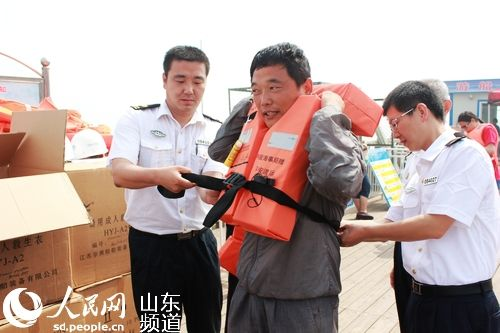other_clothes: (394, 143, 495, 281), (117, 96, 217, 235)
reflective_clothes: (225, 77, 378, 262), (466, 121, 500, 177)
